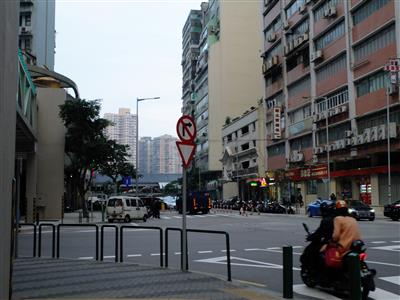deadEnd: (122, 176, 131, 186)
noRightTurn: (175, 114, 198, 142)
yield: (174, 140, 198, 169)
